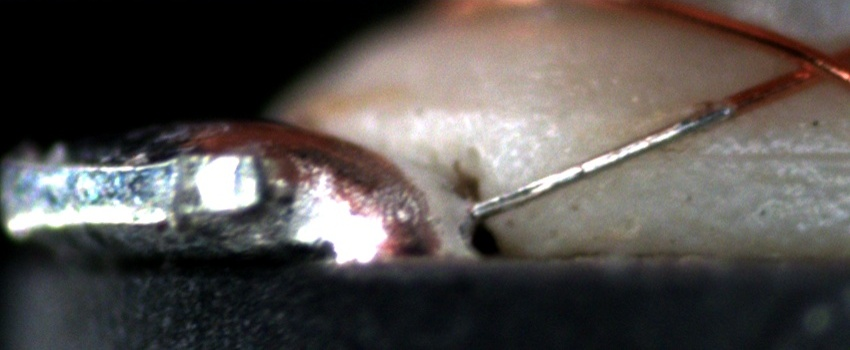CL: (774, 35, 846, 90)
DL: (699, 125, 847, 179)
TS: (471, 102, 734, 219)
